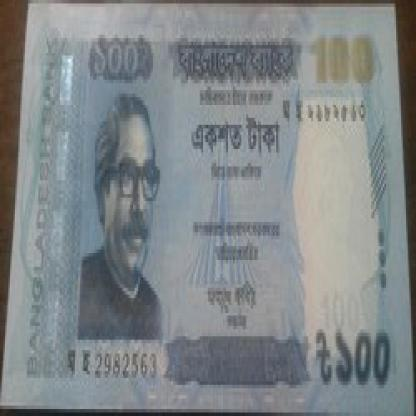one hundred taka: (333, 326, 393, 395), (85, 28, 153, 86), (310, 31, 376, 90)
